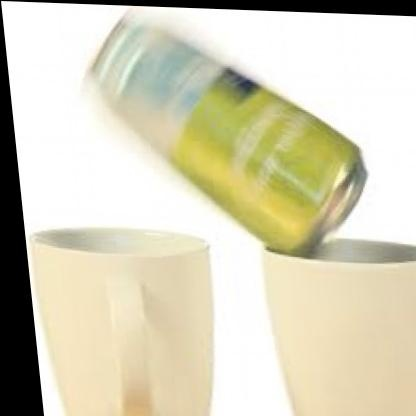trash: (91, 12, 366, 255)
